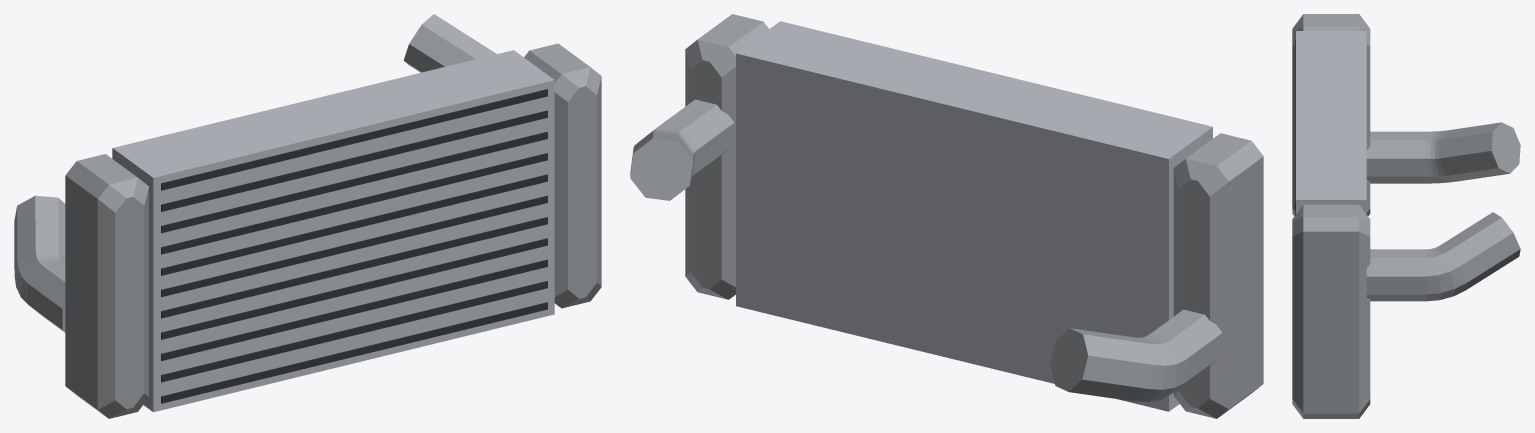
File: strada_evo.glb
3 renders of one model, left to right at view 1: azimuth 30°, elevation 25°; view 2: azimuth 150°, elevation 25°; view 3: azimuth 270°, elevation 25°, orthographic. The views are drawn at different scales.
Parts seen in each view (by area): view 1: model; view 2: model; view 3: model.
Boxes of the visible parts, left/top/right/bottom form: model: left=14, top=14, right=601, bottom=418; model: left=630, top=14, right=1263, bottom=418; model: left=1292, top=14, right=1520, bottom=418.
Bounding box in the file's own units: 0.54 × 0.24 × 0.2456.
Materials: 2 (1 with a texture image).
